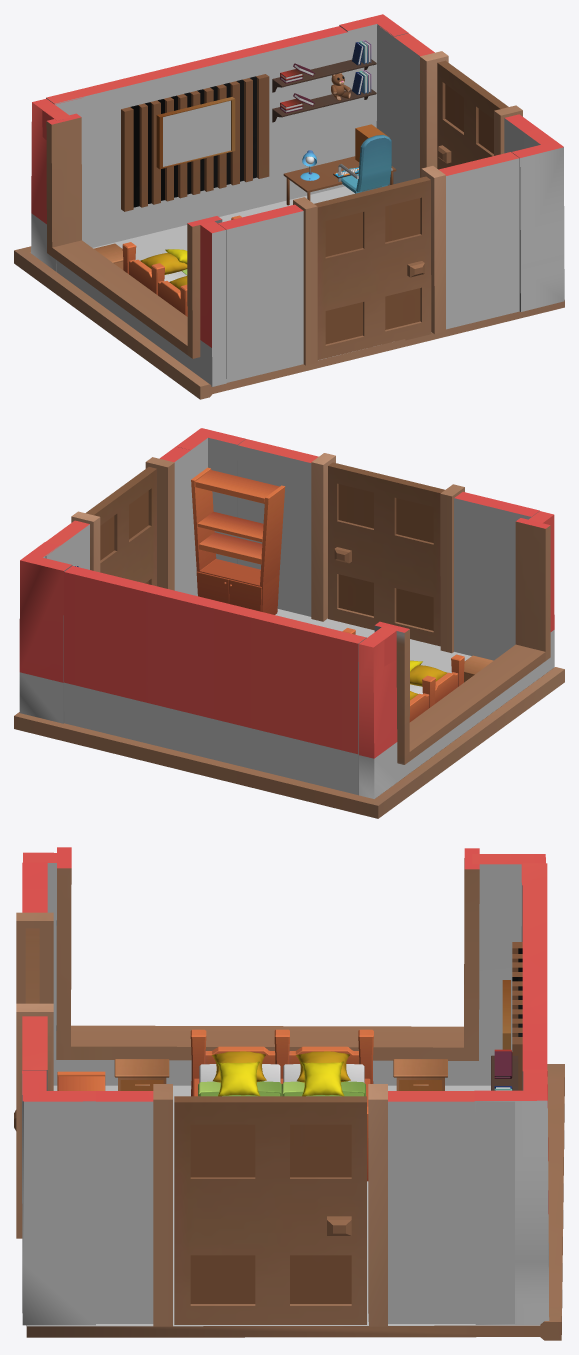
The model's file is DORMITORIO.fbx.
The picture shows the model from 3 angles, top to bottom: view 1: azimuth 30°, elevation 25°; view 2: azimuth 150°, elevation 25°; view 3: azimuth 270°, elevation 25°; orthographic projection. The views are drawn at different scales.
Visible parts, largest first — view 1: paret_puerta41, paret_basica25, puerta24, paret_con_ventana_grande22, decor_paret1, suelo2, paret_puerta45, paret_esquina_87, puerta16, mesa_ordena1, paret_esquina37, paret_esquina_78 (+3 smaller); view 2: paret_basica25, paret_puerta41, puerta24, paret_con_ventana_grande22, suelo2, mueble1, paret_puerta45, paret_esquina_78, paret_esquina37, puerta16, paret_esquina_87, cama1; view 3: paret_puerta45, puerta16, paret_con_ventana_grande22, suelo2, cama1, paret_esquina_78, paret_puerta41, paret_esquina_87, paret_basica25, paret_esquina37, decor_paret1, mesita4 (+4 smaller).
Boxes of the visible parts, <box> form: paret_puerta41: <box>218,152,519,382</box>; paret_basica25: <box>46,26,348,247</box>; puerta24: <box>314,176,431,359</box>; paret_con_ventana_grande22: <box>42,110,226,386</box>; decor_paret1: <box>121,74,269,211</box>; suelo2: <box>14,186,564,399</box>; paret_puerta45: <box>379,27,563,185</box>; paret_esquina_87: <box>511,128,564,311</box>; puerta16: <box>437,60,508,169</box>; mesa_ordena1: <box>283,124,396,205</box>; paret_esquina37: <box>31,97,83,271</box>; paret_esquina_78: <box>339,14,408,157</box>; paret_basica25: <box>64,565,366,795</box>; paret_puerta41: <box>237,439,539,660</box>; puerta24: <box>328,462,444,646</box>; paret_con_ventana_grande22: <box>374,511,554,780</box>; suelo2: <box>14,609,564,818</box>; mueble1: <box>191,467,285,614</box>; paret_puerta45: <box>45,428,207,596</box>; paret_esquina_78: <box>19,542,72,723</box>; paret_esquina37: <box>358,625,399,798</box>; puerta16: <box>85,467,156,586</box>; paret_esquina_87: <box>177,428,245,563</box>; cama1: <box>342,628,464,722</box>; paret_puerta45: <box>24,1084,514,1326</box>; puerta16: <box>174,1096,366,1324</box>; paret_con_ventana_grande22: <box>23,847,512,1085</box>; suelo2: <box>26,1064,564,1340</box>; cama1: <box>190,1029,373,1181</box>; paret_esquina_78: <box>474,1069,549,1324</box>; paret_puerta41: <box>16,862,53,1238</box>; paret_esquina_87: <box>22,1070,95,1325</box>; paret_basica25: <box>522,863,547,1090</box>; paret_esquina37: <box>472,854,545,970</box>; decor_paret1: <box>502,942,522,1090</box>; mesita4: <box>393,1059,447,1090</box>.
Bounding box in the file's own units: 836 × 361 × 742.
